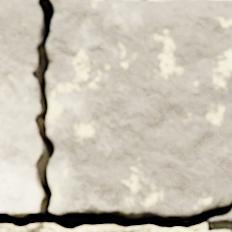broken_brick: (46, 0, 231, 217), (0, 0, 44, 215), (209, 210, 231, 221)
crack: (0, 0, 231, 231)
